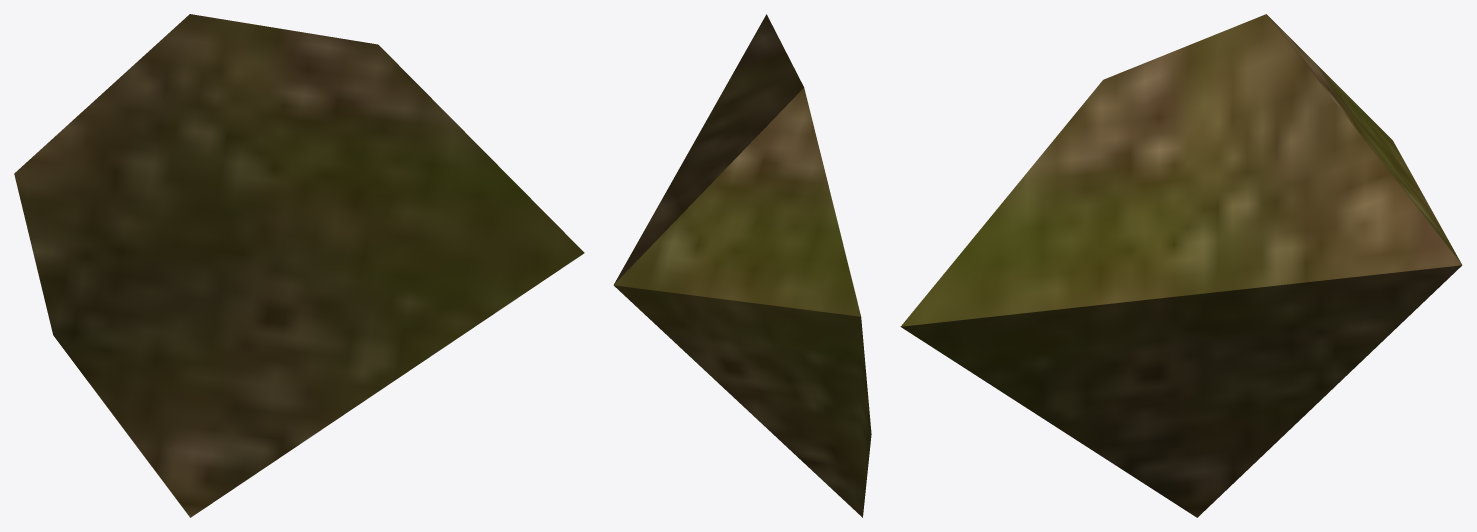
File: kerb_2.glb
3 views of the same model, side by side, from view 1: azimuth 30°, elevation 25°; view 2: azimuth 150°, elevation 25°; view 3: azimuth 270°, elevation 25° (orthographic). The views are drawn at different scales.
Parts seen in each view (by area): view 1: kerb; view 2: kerb; view 3: kerb.
Boxes of the visible parts, x1,y1,x2,y2 form: kerb: (14,14,584,517); kerb: (613,14,871,517); kerb: (900,14,1462,517).
Bounding box in the file's own units: 0.0821 × 0.1071 × 0.1048.
Materials: 1 (1 with a texture image).
